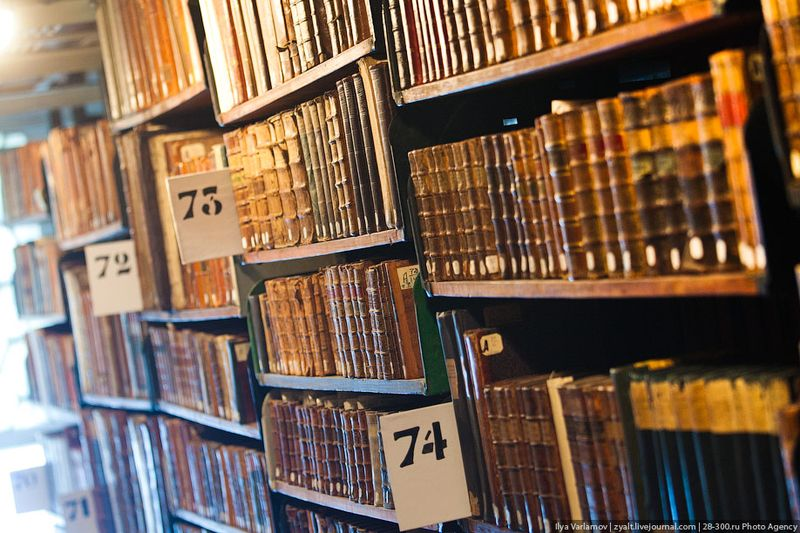book: (354, 65, 399, 238), (409, 131, 457, 281)
